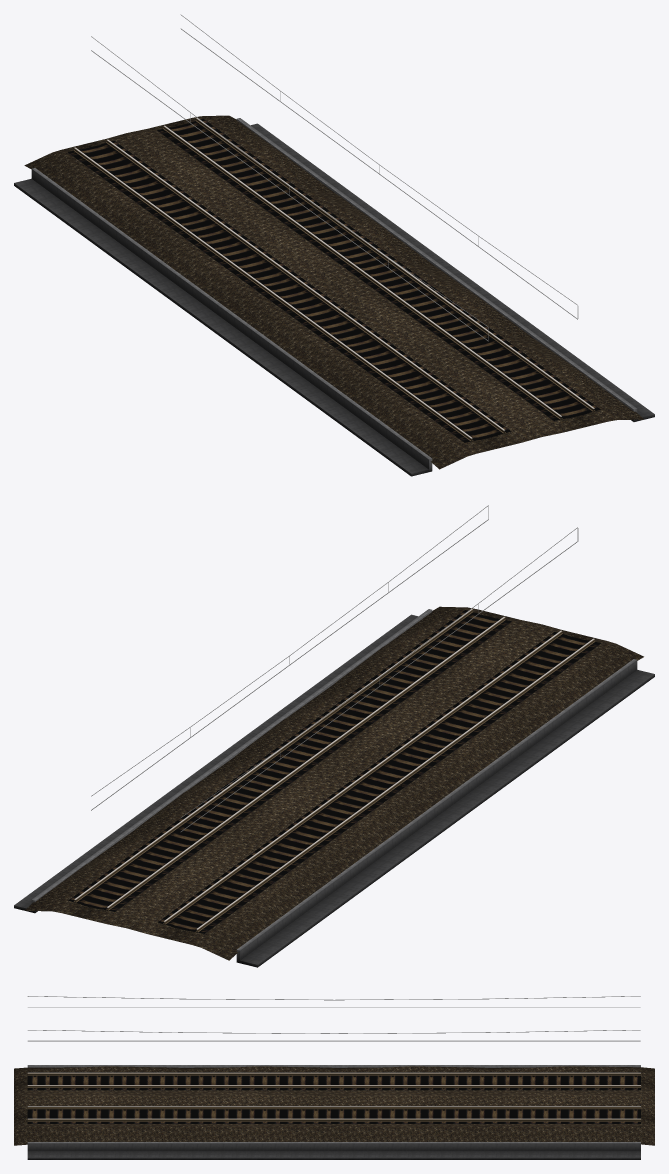
Rendered from AMB_KIN_2RAIL100.glb.
3 views of the same model, one above another, from view 1: azimuth 30°, elevation 25°; view 2: azimuth 150°, elevation 25°; view 3: azimuth 270°, elevation 25° (orthographic). The views are drawn at different scales.
Parts seen in each view (by area): view 1: Mesh1; view 2: Mesh1; view 3: Mesh1.
Part boxes in pixels (bbox=[...]): Mesh1: bbox=[14, 14, 654, 476]; Mesh1: bbox=[14, 505, 654, 967]; Mesh1: bbox=[14, 996, 654, 1159].
Bounding box in the file's own units: 35.42 × 18.15 × 105.
7 materials, 5 textured.
